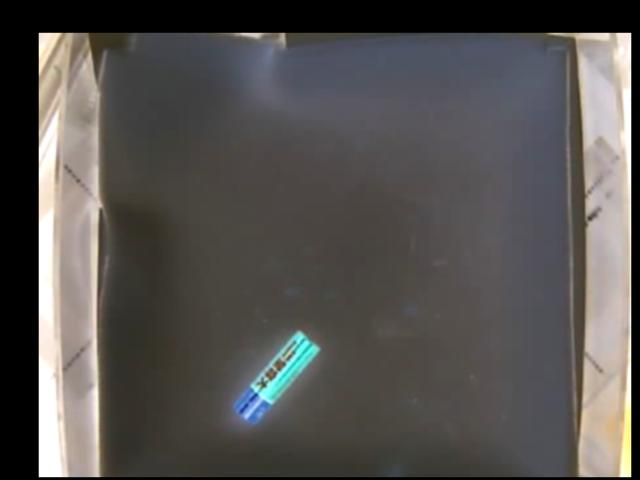Battery: (235, 330, 323, 422)
